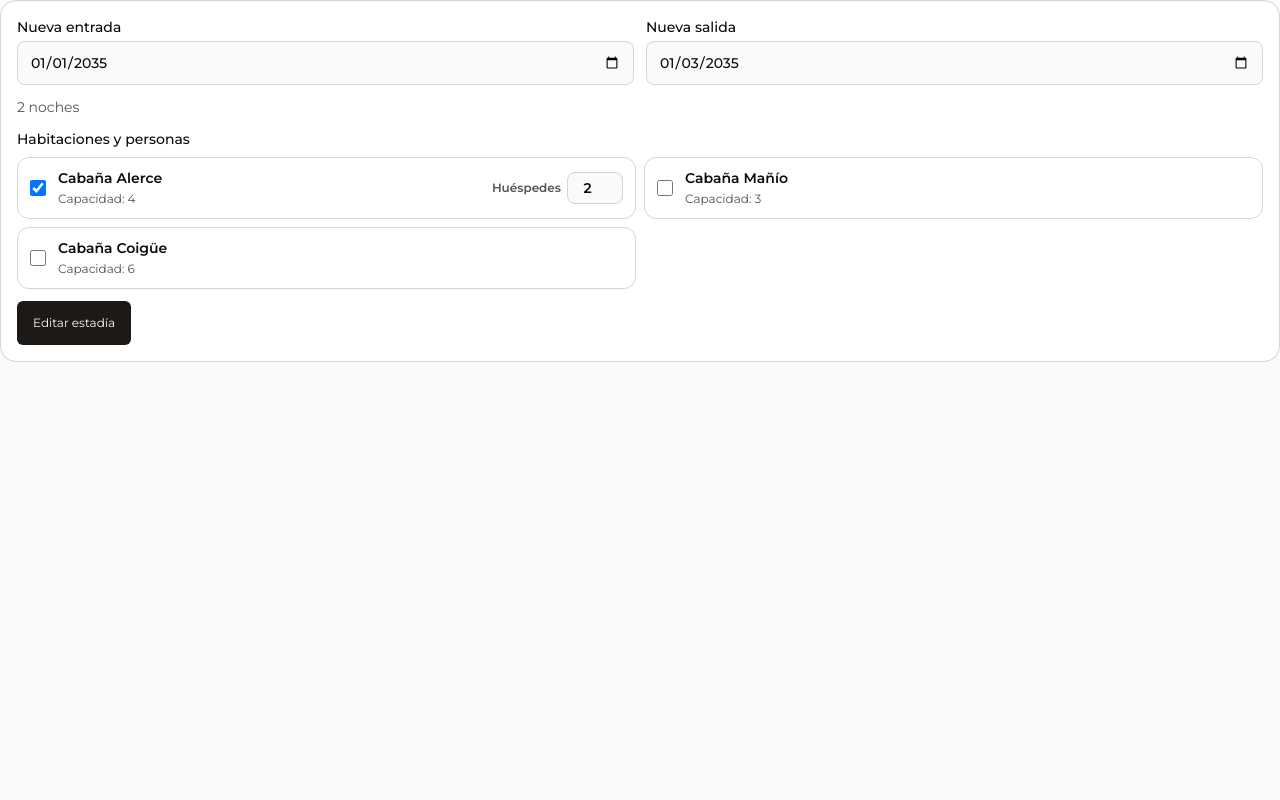
Test: financial outcome of the edit (task 6.3) › reports the recalculated total, the pending balance and the overpayment
The width and height of the screenshot is (1280, 800).
Check: the checkbox labelled "Cabaña Alerce Capacidad: 4" is shown, box [30,180,46,196]
Submit the form named "Editar estadía de la reserva", box [0,0,1279,362]
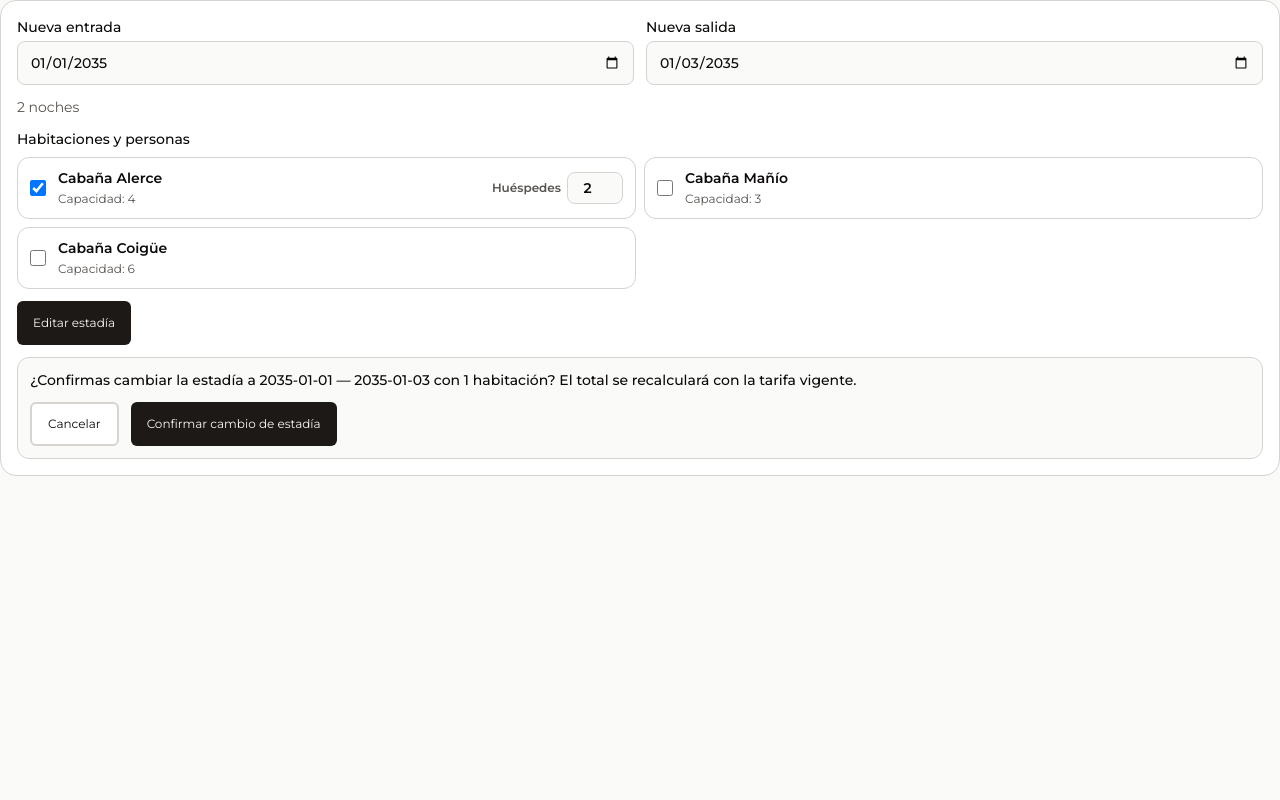
Click the button "Confirmar cambio de estadía": (234, 424) [131,402,337,446]
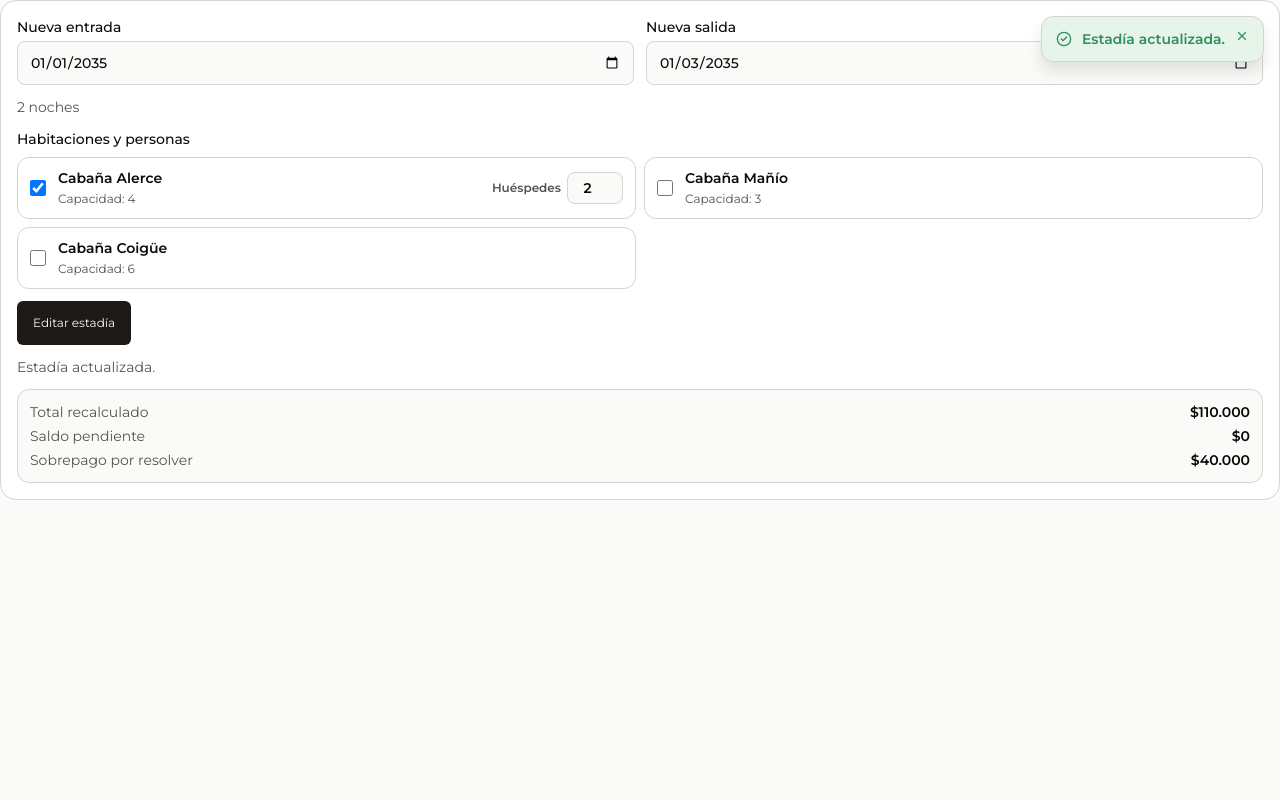
Check: the element named "Resultado financiero de la estadía" shows "Total recalculado", box [30,403,148,421]
Check: the element named "Resultado financiero de la estadía" shows "Saldo pendiente", box [30,427,145,445]
Check: the element named "Resultado financiero de la estadía" shows "Sobrepago por resolver", box [30,451,193,469]
